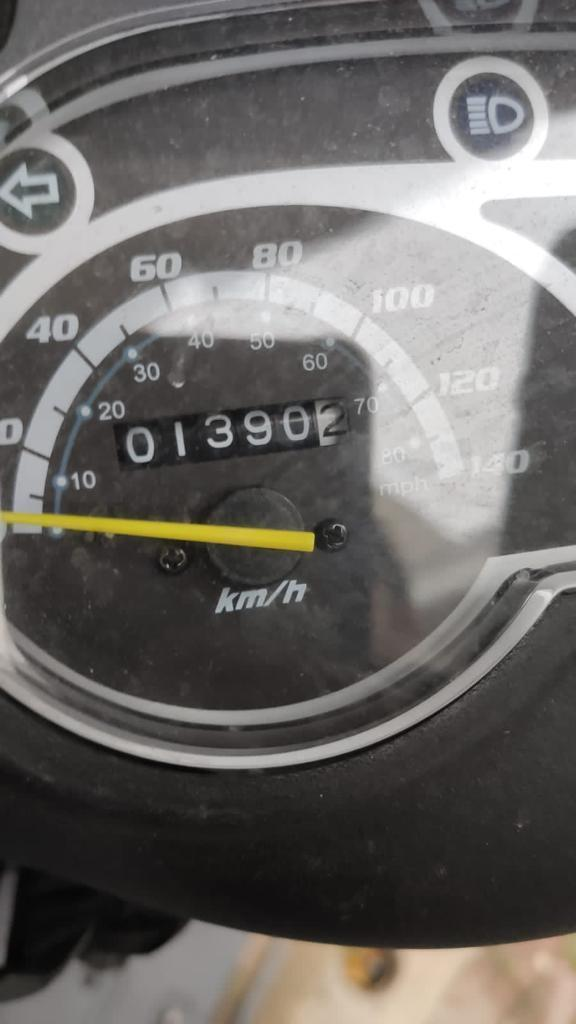0: (120, 426, 160, 466), (280, 404, 312, 442), (111, 400, 127, 421)
1: (168, 415, 191, 460)
2: (318, 401, 349, 442)
3: (203, 412, 234, 452)
9: (242, 407, 274, 450)
odometer: (110, 395, 354, 474)
